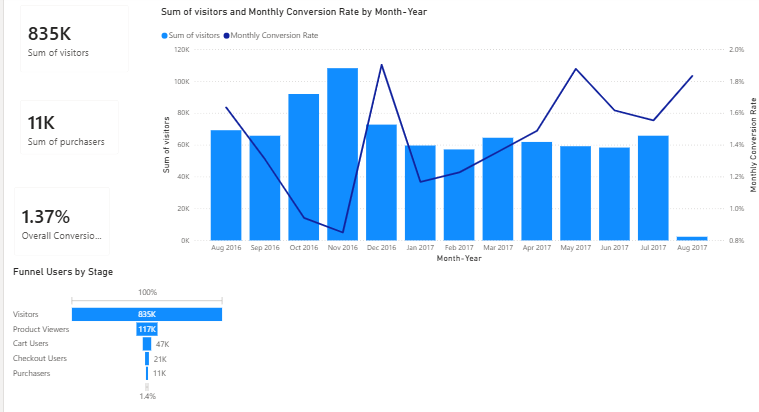

Layout of this report page (visuals, bound fields, positions):
{"tool":"powerbi","page":{"name":"Page 1","canvas":[1280,720],"ordinal":0},"visuals":[{"type":"cardVisual","fields":{"Data":["Sum(shopsphere_daily_funnel.visitors)"]},"box":[10.2,0,218.4,149],"z":0},{"type":"cardVisual","fields":{"Data":["Sum(shopsphere_daily_funnel.purchasers)"]},"box":[10.2,160.8,201.5,127],"z":1},{"type":"cardVisual","fields":{"Data":["shopsphere_daily_funnel.Overall Conversion Rate"]},"box":[0,308.1,196.4,150.7],"z":2},{"type":"funnel","fields":{"Category":["Funnel Stages.Stage"],"Y":["Funnel Stages.Funnel Users"]},"box":[10.2,458.8,369.1,233.7],"z":3},{"type":"lineClusteredColumnComboChart","fields":{"Category":["shopsphere_daily_funnel.Month-Year"],"Y":["Sum(shopsphere_daily_funnel.visitors)"],"Y2":["Funnel Stages.Monthly Conversion Rate"]},"box":[260.7,18.6,1019.3,440.2],"z":5}]}

Visuals, with their boxes on the page's 1280x720 design canvas (x1, y1, x2, y2). These are canvas units, not pixel positions in the 759x412 screenshot, which may show the page scaled, cropped or inside an application window:
cardVisual - Sum(shopsphere_daily_funnel.visitors): region(10, 0, 229, 149)
cardVisual - Sum(shopsphere_daily_funnel.purchasers): region(10, 161, 212, 288)
cardVisual - shopsphere_daily_funnel.Overall Conversion Rate: region(0, 308, 196, 459)
funnel - Funnel Stages.Stage x Funnel Stages.Funnel Users: region(10, 459, 379, 692)
lineClusteredColumnComboChart - shopsphere_daily_funnel.Month-Year x Sum(shopsphere_daily_funnel.visitors): region(261, 19, 1280, 459)
